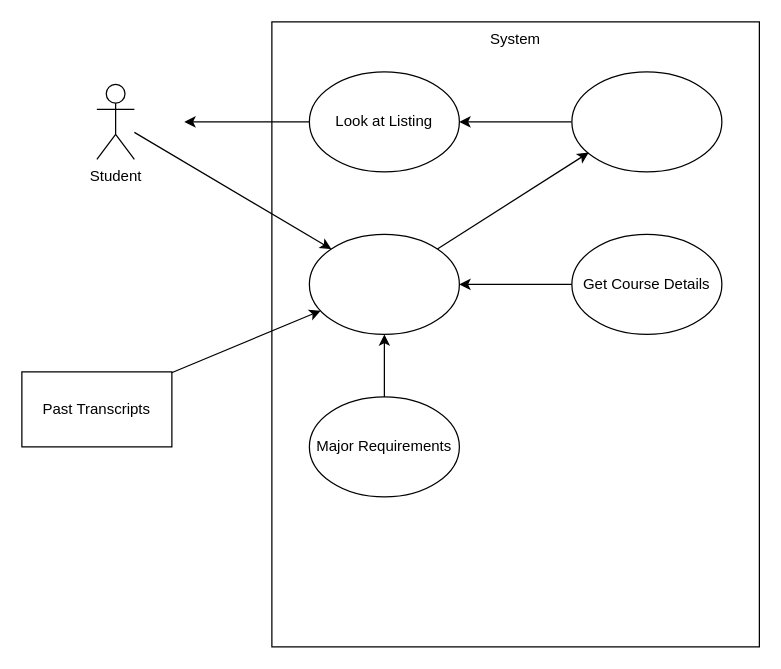
This 781x669 diagram has some shape labels left out. Here are the shapes that lost their labels. From the top down, the centre of each, then its label:
point (646, 121): Filter Courses
point (383, 283): Choose Search Parameters
